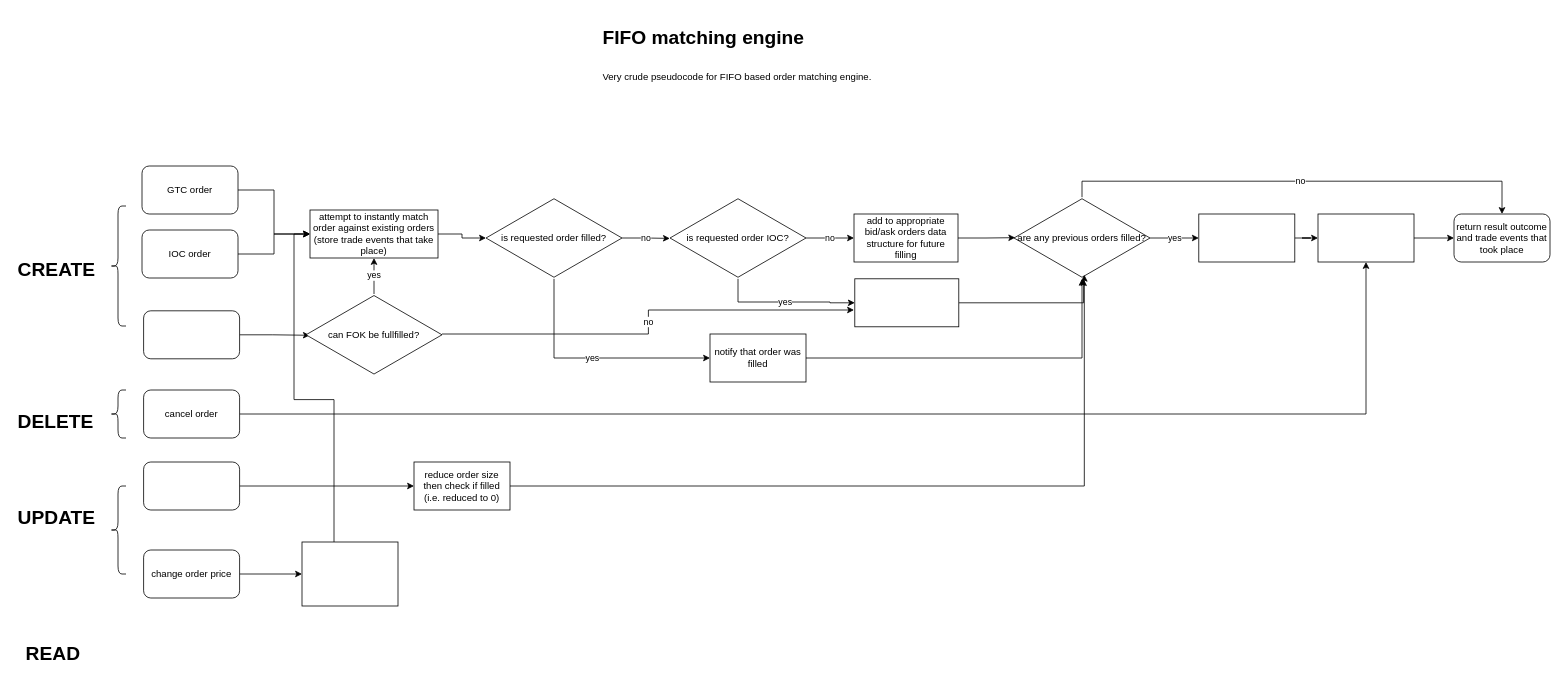
Image size: 1564x683. Some labels were removed from this diagram. The shapes that lost their labels are listed below. From the top down, each one's centre as x and y in pixels, then its label:
the point at 1246,237: notify that orders now filled
the point at 1365,237: remove order(s) from data structure
the point at 906,302: notify cancellation
the point at 191,334: FOK order
the point at 191,485: reduce order size
the point at 349,573: move order between appropriate bid/ask data structures according to new price
